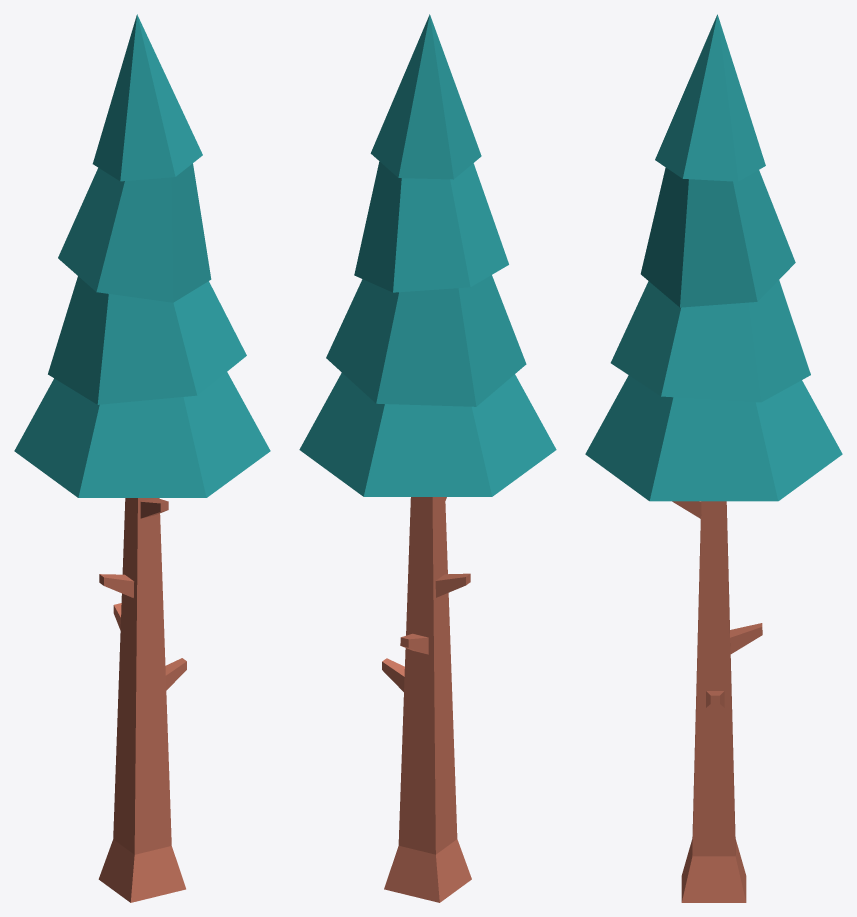
Rendered from tree_pineTallD_detailed.glb.
3 views of the same model, side by side, from view 1: azimuth 30°, elevation 25°; view 2: azimuth 150°, elevation 25°; view 3: azimuth 270°, elevation 25° (orthographic).
Visible parts, largest first — view 1: tree_pineTallD_detailed; view 2: tree_pineTallD_detailed; view 3: tree_pineTallD_detailed.
Boxes of the visible parts, left/top/right/bottom form: tree_pineTallD_detailed: left=14, top=14, right=270, bottom=902; tree_pineTallD_detailed: left=299, top=14, right=556, bottom=902; tree_pineTallD_detailed: left=585, top=14, right=842, bottom=902.
Bounding box in the file's own units: 0.4804 × 2.08 × 0.5547.
